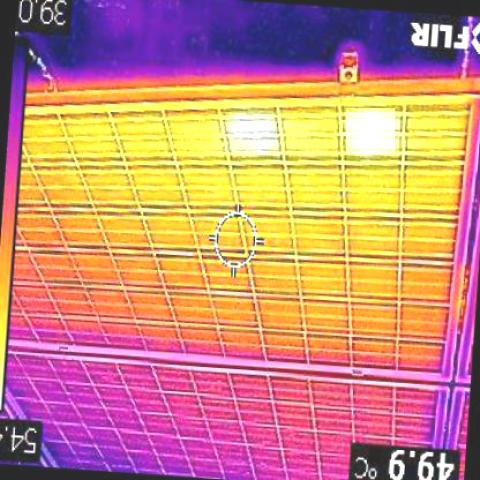fault: (346, 108, 395, 154), (224, 110, 276, 148)
